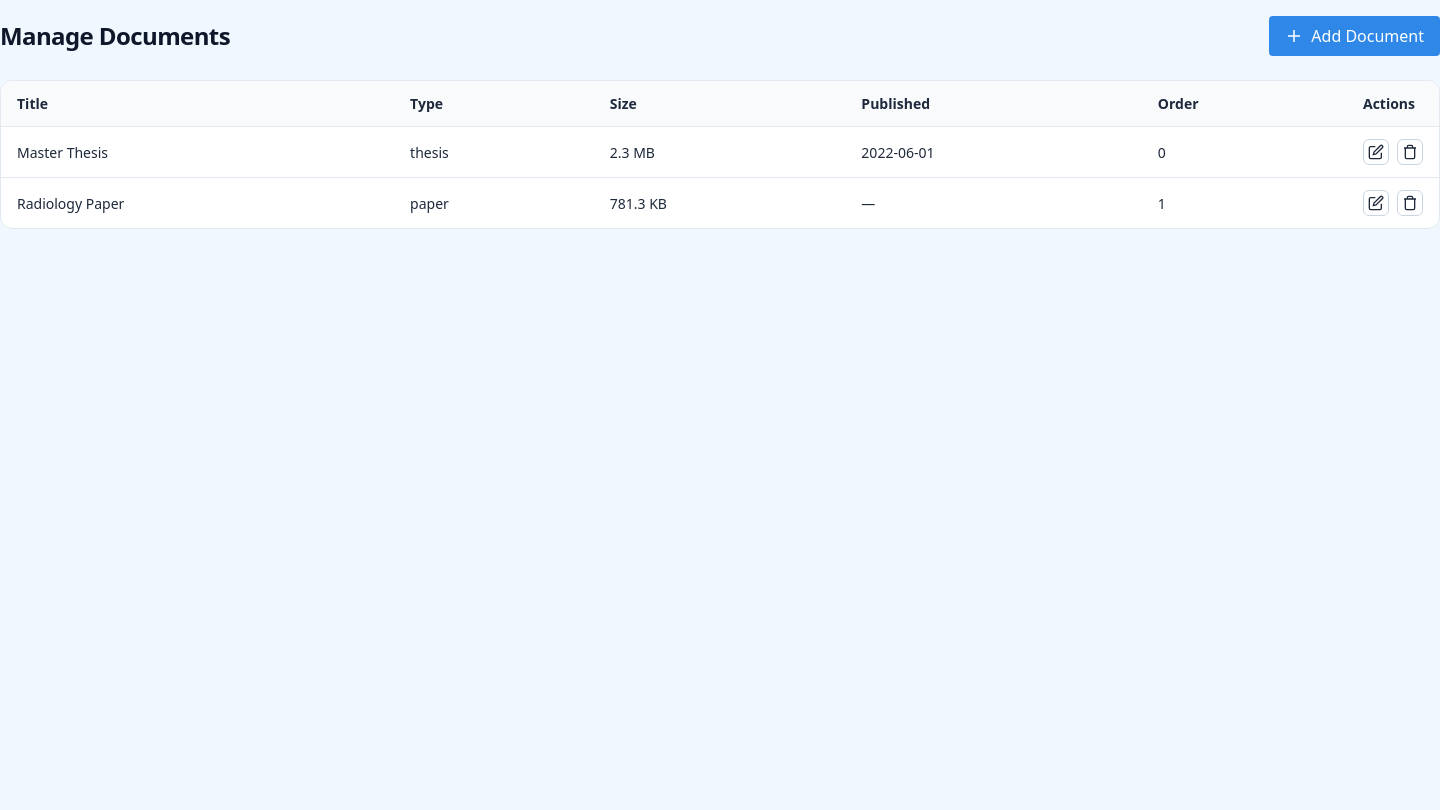
Test: AdminDocuments › create › blocks save until a file has been uploaded
Step 1. Click the button with class "add-button" → click(1355, 36), box [1269, 16, 1439, 56]
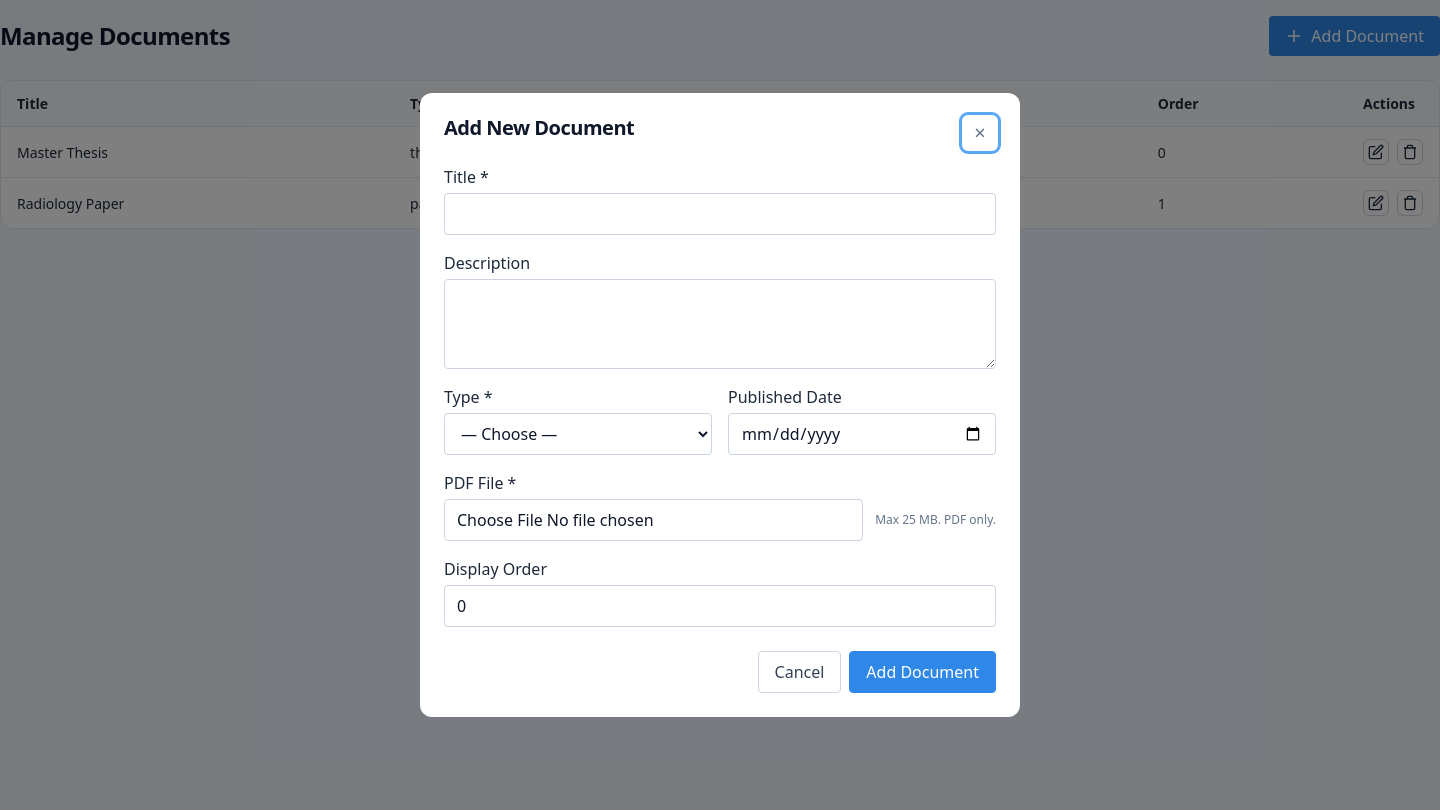
Step 2. Type "New Doc" into the field with id "doc-title" → (720, 214), box [444, 193, 996, 235]
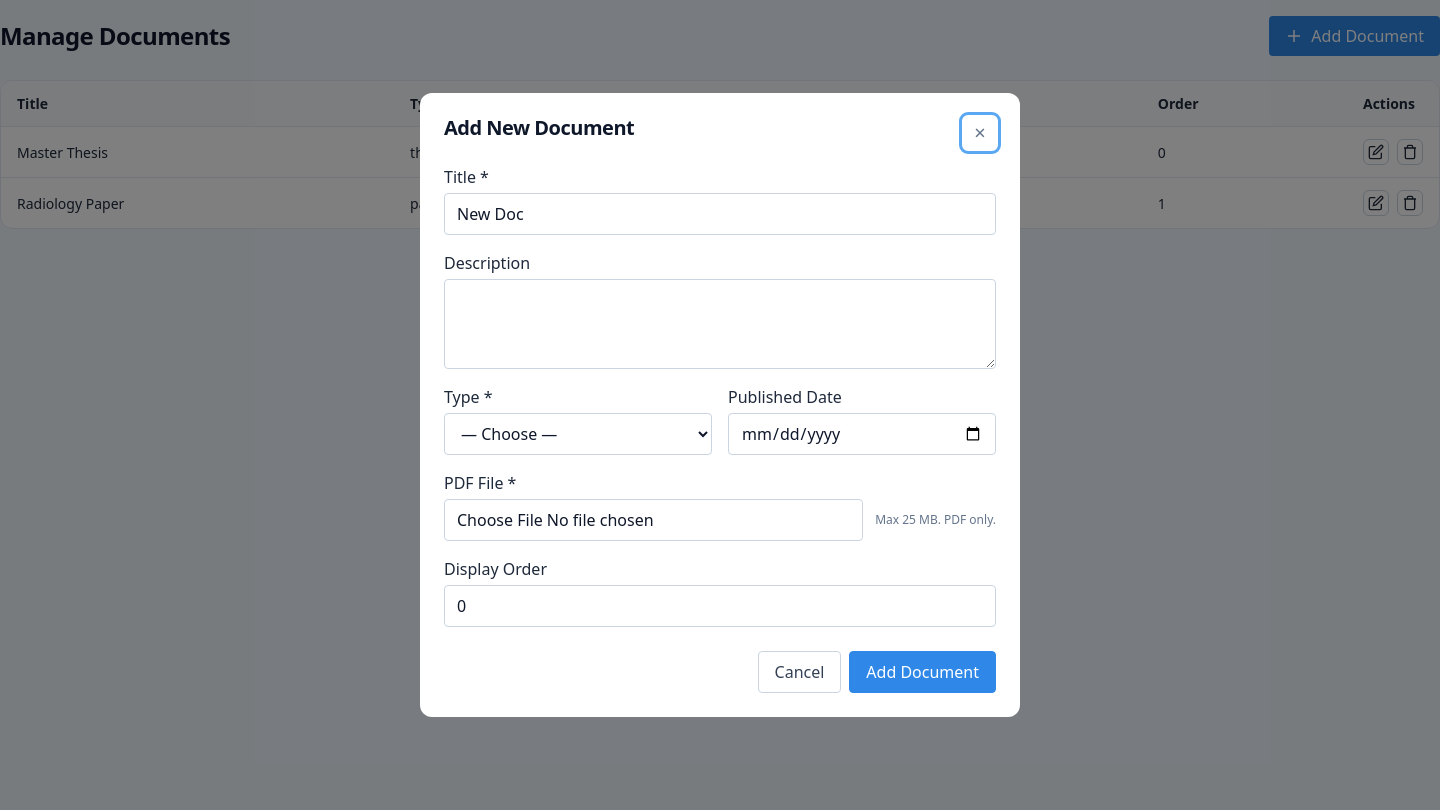
Step 3. Select "Paper" in the dropdown with id "doc-type" → (578, 434), box [444, 413, 712, 455]
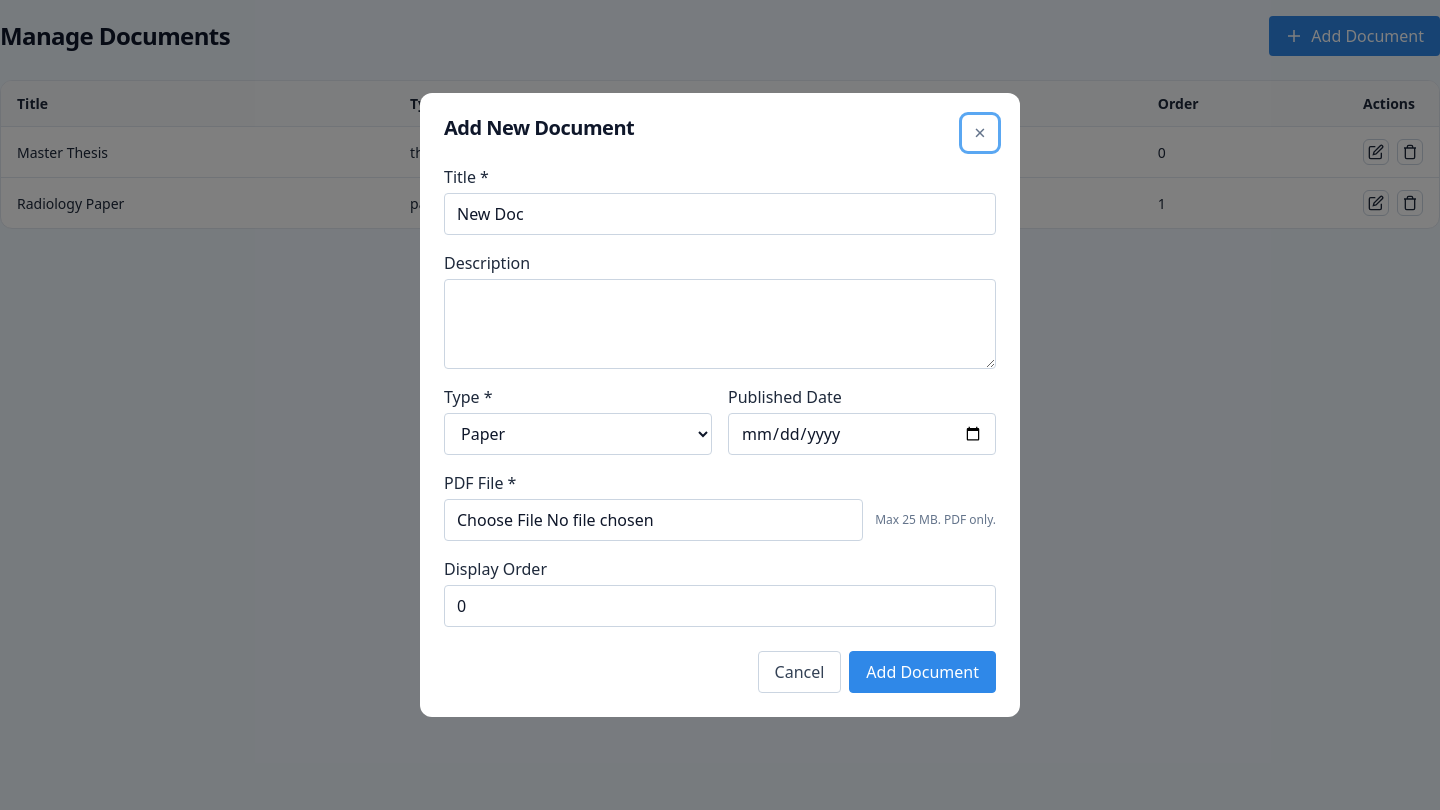
Step 4. Submit the form, box [444, 165, 996, 693]
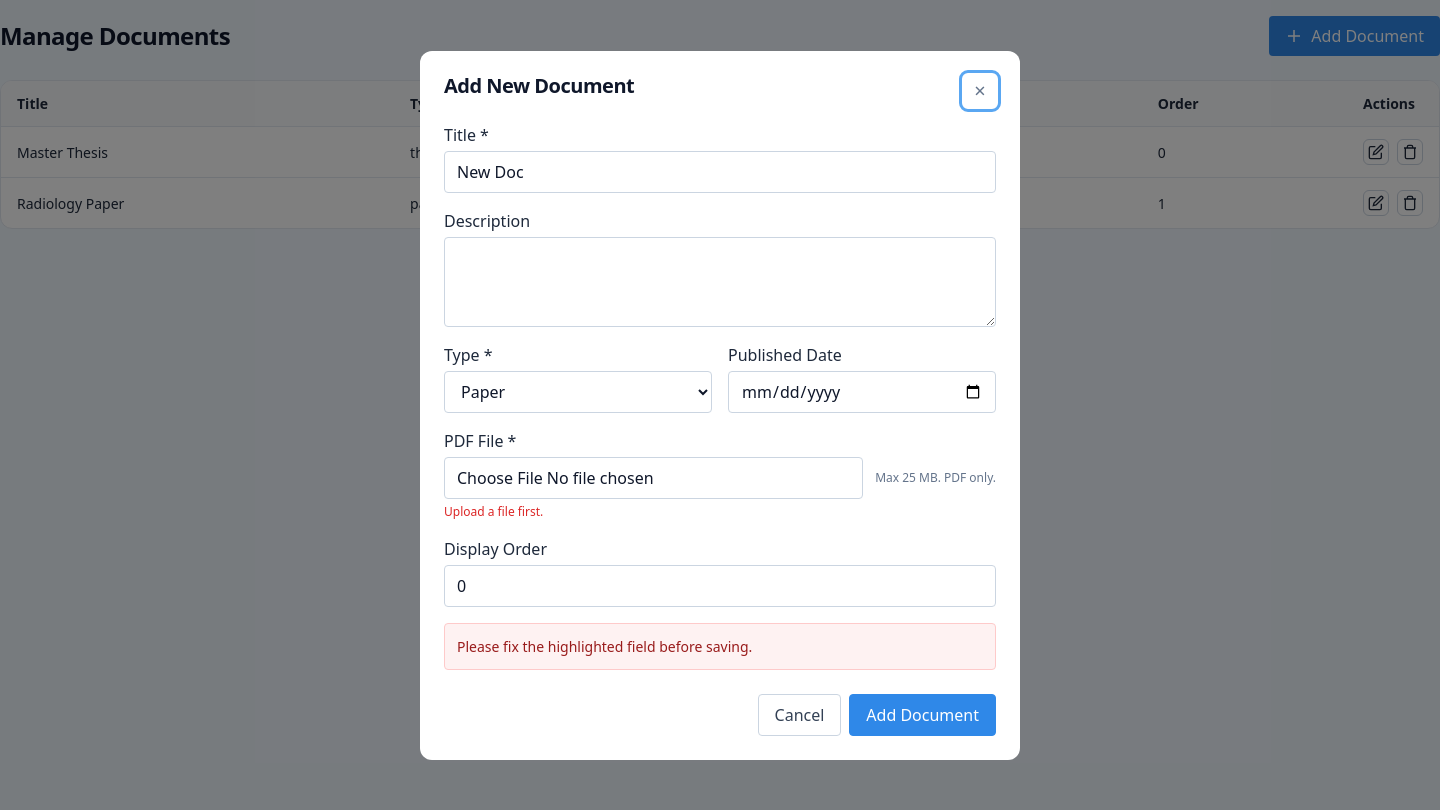
Result: the text "Upload a file first." is shown at [444, 502, 543, 520]
